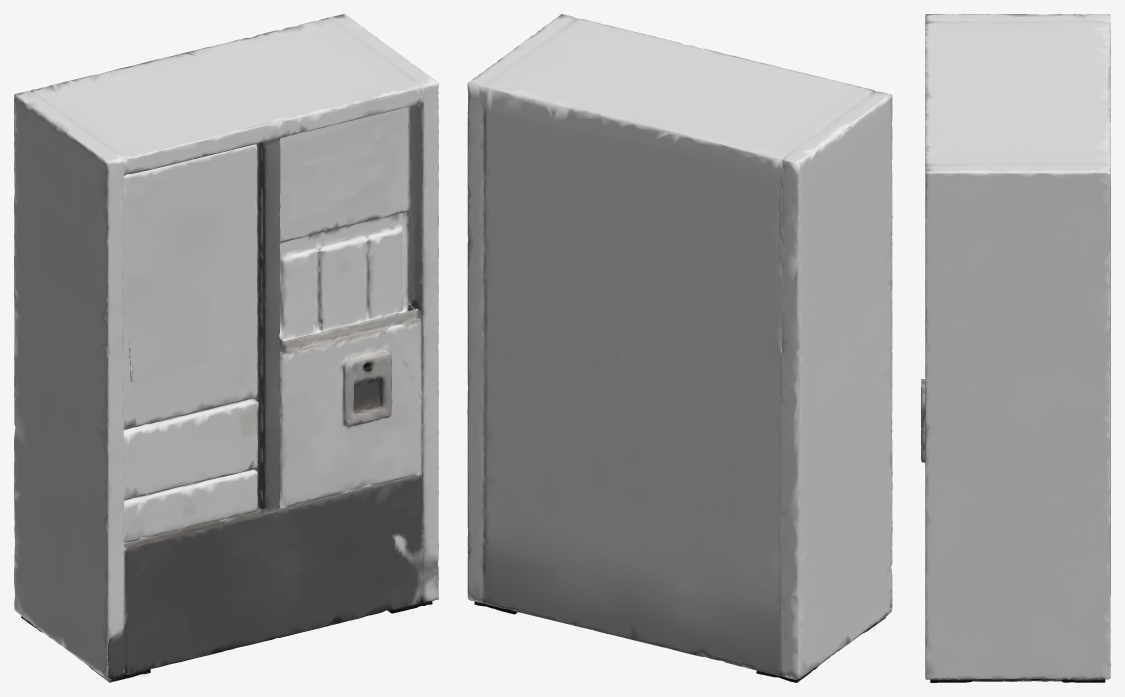
Rendered from vending_machine.glb.
The picture shows the model from 3 angles, left to right: view 1: azimuth 30°, elevation 25°; view 2: azimuth 150°, elevation 25°; view 3: azimuth 270°, elevation 25°; orthographic projection.
Visible parts, largest first — view 1: model; view 2: model; view 3: model.
Boxes of the visible parts, box(x1,y1,x2,y2) form: model: box(14, 14, 438, 682); model: box(467, 14, 892, 682); model: box(921, 14, 1110, 682).
Size of the model in its own units: 1.26 by 1.9 by 0.6379.
1 material, 1 textured.
